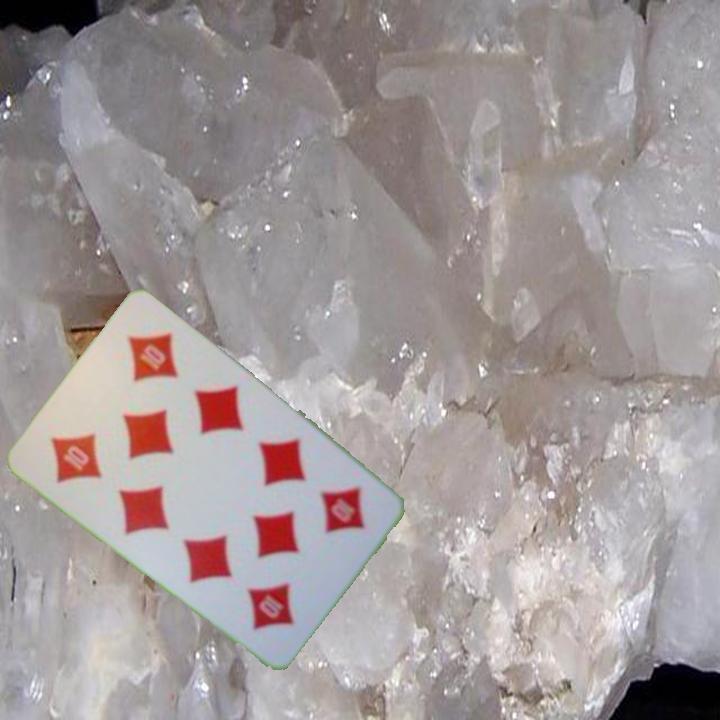d_10.png: (265, 451, 392, 581), (21, 381, 148, 510)
